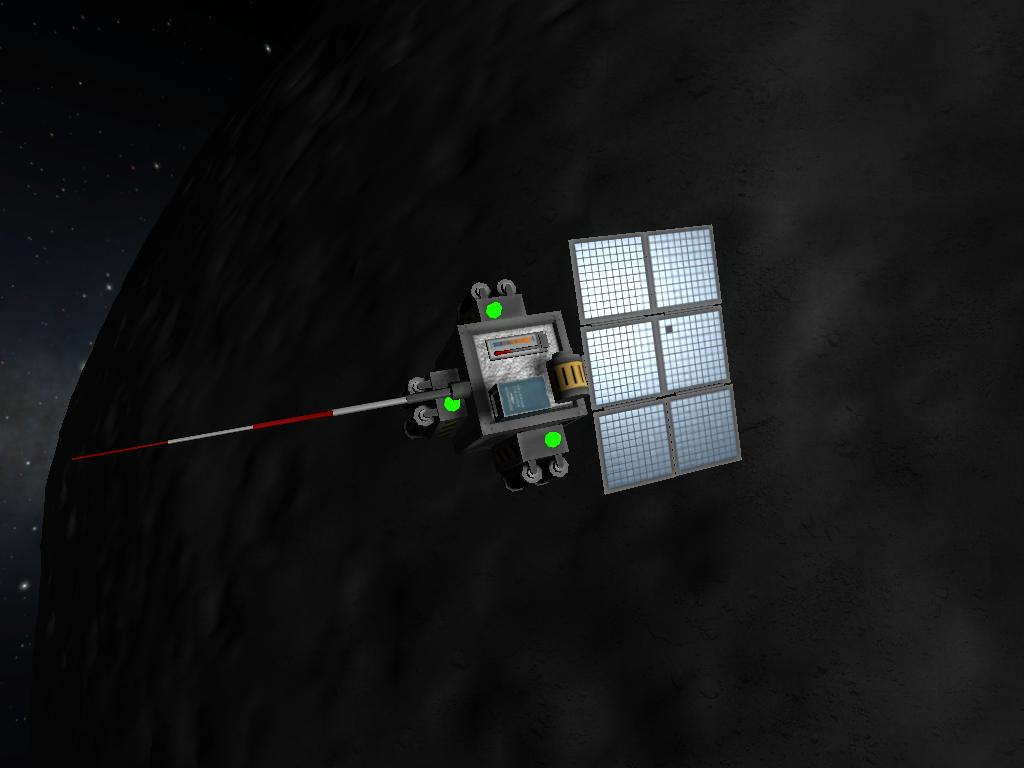antenna: (64, 379, 471, 466)
body: (400, 275, 592, 494)
solar: (567, 222, 745, 496)
